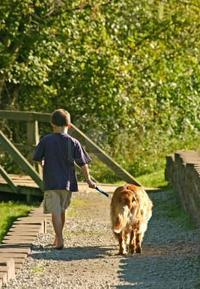person: (33, 107, 94, 252)
